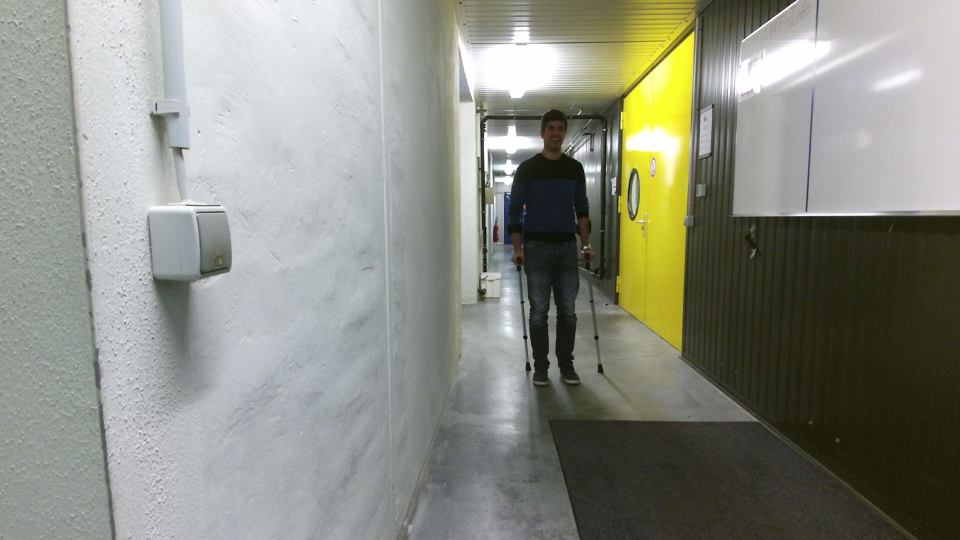crutches: (504, 105, 609, 387)
